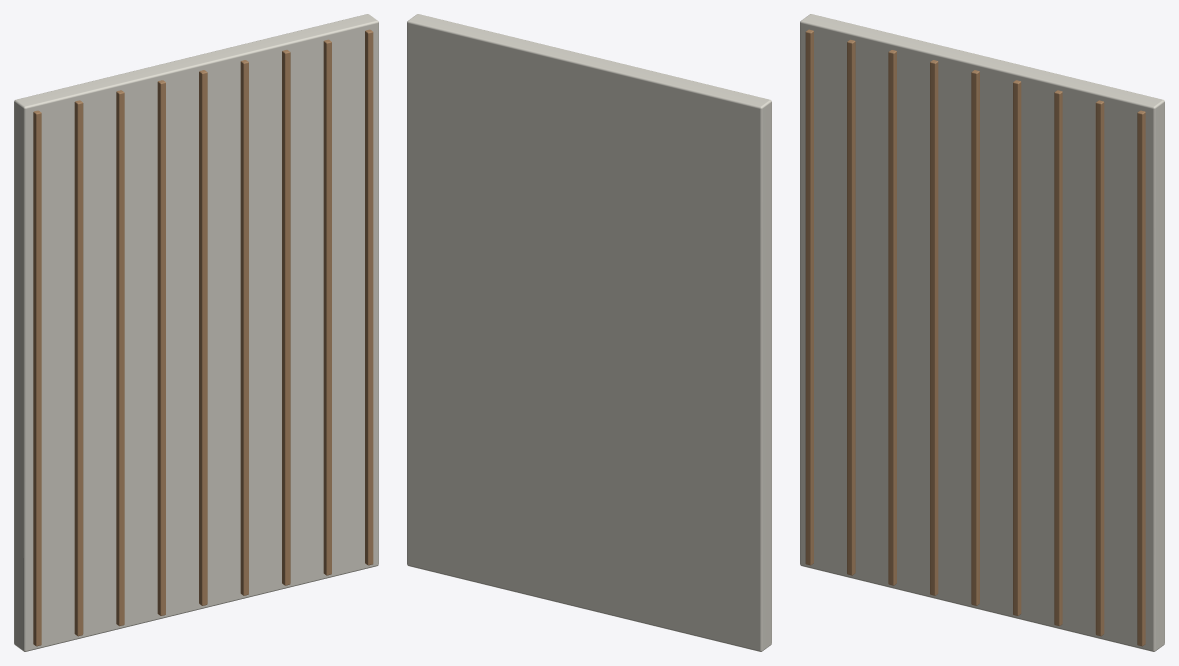
Rendered from atelier-wall-covering.glb.
The picture shows the model from 3 angles, left to right: view 1: azimuth 30°, elevation 25°; view 2: azimuth 150°, elevation 25°; view 3: azimuth 330°, elevation 25°; orthographic projection.
Parts seen in each view (by area): view 1: ceramic.157, legs.257; view 2: ceramic.157; view 3: ceramic.157, legs.257.
Boxes of the visible parts, bbox=[...] form: ceramic.157: bbox=[14, 14, 378, 651]; legs.257: bbox=[33, 29, 373, 646]; ceramic.157: bbox=[407, 14, 771, 651]; ceramic.157: bbox=[800, 14, 1164, 651]; legs.257: bbox=[805, 29, 1145, 646].
Bounding box in the file's own units: 1.5 × 2.2 × 0.1024.
